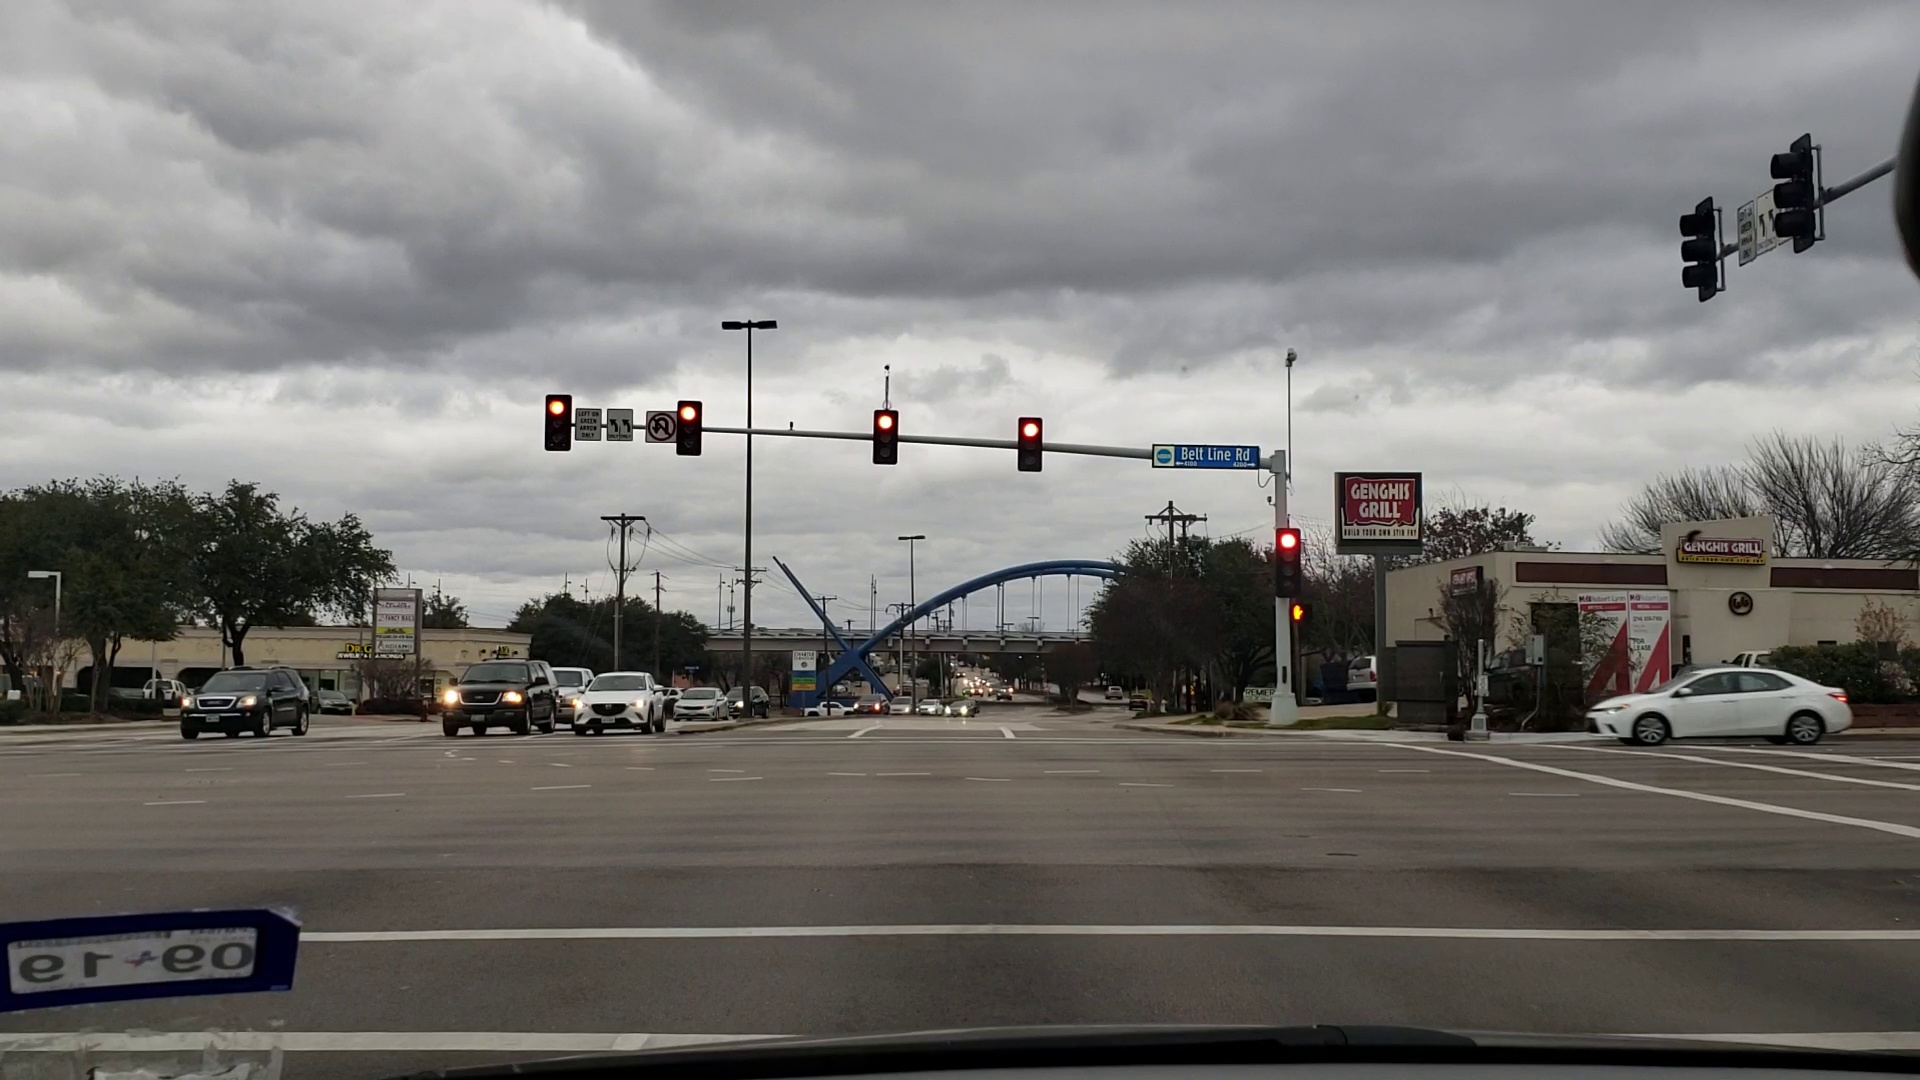car: (1567, 662, 1862, 748), (438, 658, 563, 746), (174, 662, 311, 742), (570, 674, 671, 744), (551, 655, 597, 724), (309, 686, 361, 716), (1342, 655, 1383, 694), (675, 688, 724, 720), (144, 673, 186, 704), (728, 684, 773, 713), (804, 694, 852, 719), (943, 698, 978, 717), (851, 696, 890, 711), (920, 698, 944, 719), (1127, 692, 1147, 712), (1105, 684, 1125, 702), (897, 696, 913, 717)
traffic light: (1778, 142, 1809, 252), (1683, 200, 1704, 297), (1276, 525, 1302, 600), (674, 401, 702, 459), (546, 388, 574, 442), (1021, 415, 1039, 471), (878, 407, 897, 462)
